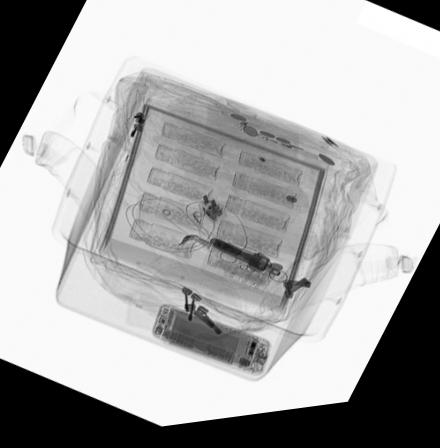Lighter: (256, 139, 321, 170)
